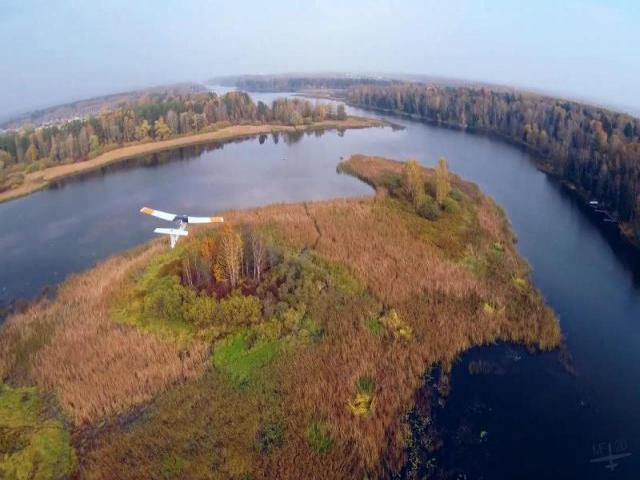hedef: (130, 198, 240, 256)
